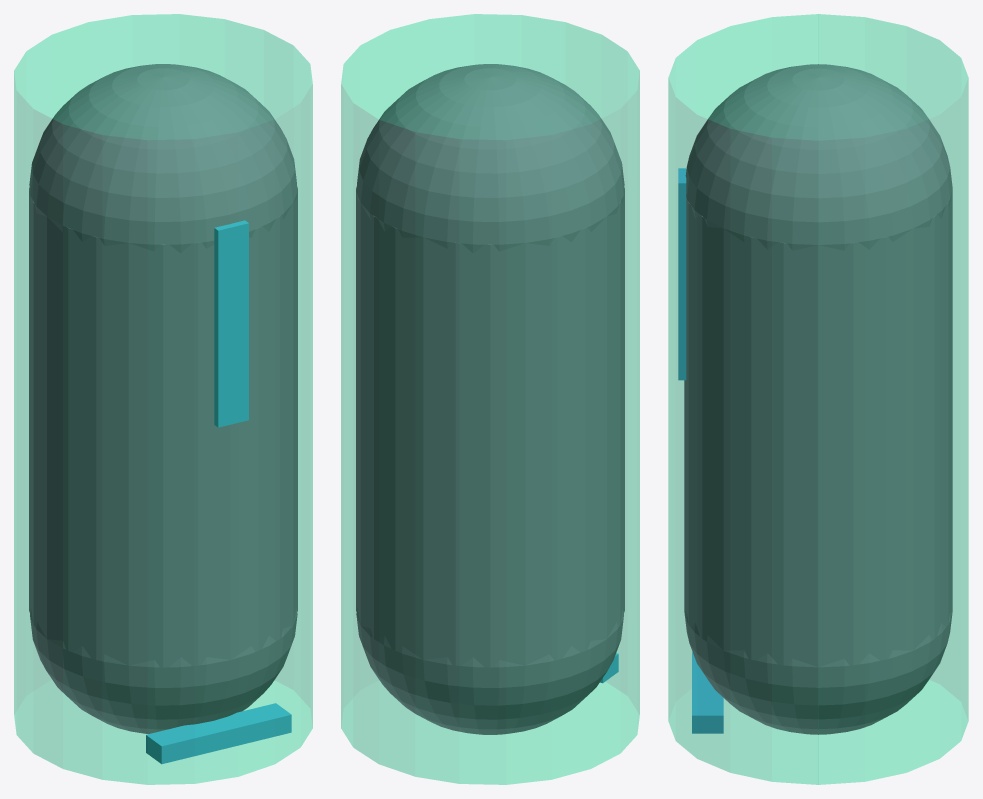
Rendered from chr_player_capsule_proxy_01.glb.
3 views of the same model, side by side, from view 1: azimuth 30°, elevation 25°; view 2: azimuth 150°, elevation 25°; view 3: azimuth 270°, elevation 25° (orthographic).
Visible parts, largest first — view 1: col_chr_player_capsule_proxy_01, chr_player_capsule_proxy_01_lod0_body, chr_player_capsule_proxy_01_lod0_upper_cap, chr_player_capsule_proxy_01_lod0_lower_cap, chr_player_capsule_proxy_01_lod0_forward_stripe, chr_player_capsule_proxy_01_lod0_feet_axis; view 2: col_chr_player_capsule_proxy_01, chr_player_capsule_proxy_01_lod0_body, chr_player_capsule_proxy_01_lod0_upper_cap, chr_player_capsule_proxy_01_lod0_lower_cap; view 3: col_chr_player_capsule_proxy_01, chr_player_capsule_proxy_01_lod0_body, chr_player_capsule_proxy_01_lod0_upper_cap, chr_player_capsule_proxy_01_lod0_lower_cap, chr_player_capsule_proxy_01_lod0_forward_stripe, chr_player_capsule_proxy_01_lod0_feet_axis.
Part boxes in pixels (x1,y1,x2,y2): col_chr_player_capsule_proxy_01: (14, 14, 312, 784); chr_player_capsule_proxy_01_lod0_body: (29, 187, 297, 667); chr_player_capsule_proxy_01_lod0_upper_cap: (29, 64, 297, 253); chr_player_capsule_proxy_01_lod0_lower_cap: (30, 608, 297, 733); chr_player_capsule_proxy_01_lod0_forward_stripe: (214, 220, 248, 427); chr_player_capsule_proxy_01_lod0_feet_axis: (146, 703, 291, 764); col_chr_player_capsule_proxy_01: (341, 14, 639, 784); chr_player_capsule_proxy_01_lod0_body: (356, 187, 624, 667); chr_player_capsule_proxy_01_lod0_upper_cap: (356, 64, 624, 253); chr_player_capsule_proxy_01_lod0_lower_cap: (356, 608, 623, 734); col_chr_player_capsule_proxy_01: (668, 14, 968, 784); chr_player_capsule_proxy_01_lod0_body: (684, 190, 952, 667); chr_player_capsule_proxy_01_lod0_upper_cap: (685, 64, 952, 250); chr_player_capsule_proxy_01_lod0_lower_cap: (684, 611, 952, 734); chr_player_capsule_proxy_01_lod0_forward_stripe: (678, 168, 686, 380); chr_player_capsule_proxy_01_lod0_feet_axis: (692, 652, 723, 733).
Size of what is drawn, in the model's own units: 0.76 by 1.8 by 0.76.
